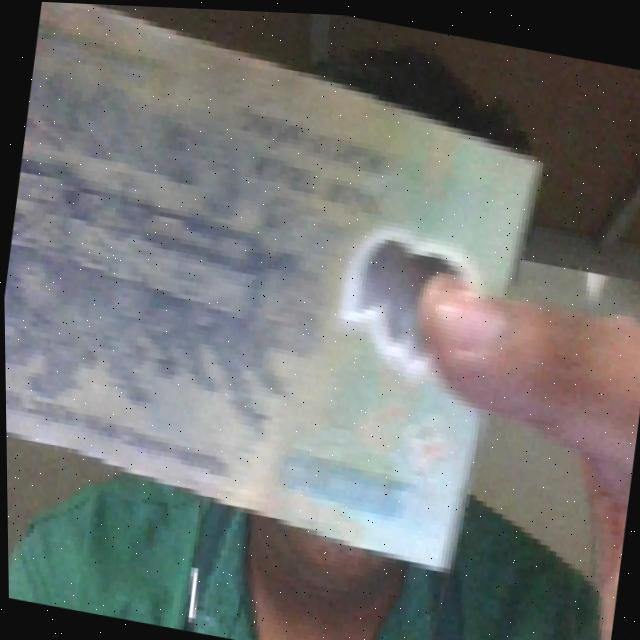500 000 VND: (0, 0, 564, 583)
